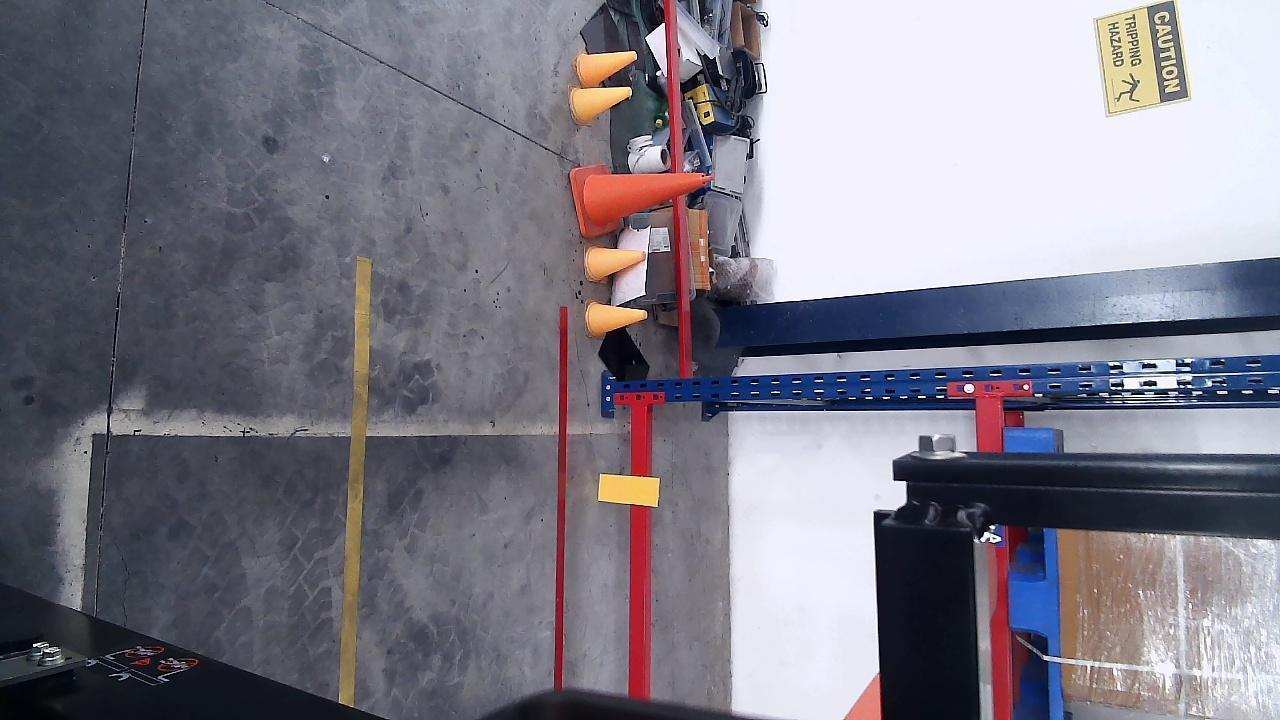red_line: (551, 306, 567, 689)
yellow_line: (337, 257, 373, 708)
